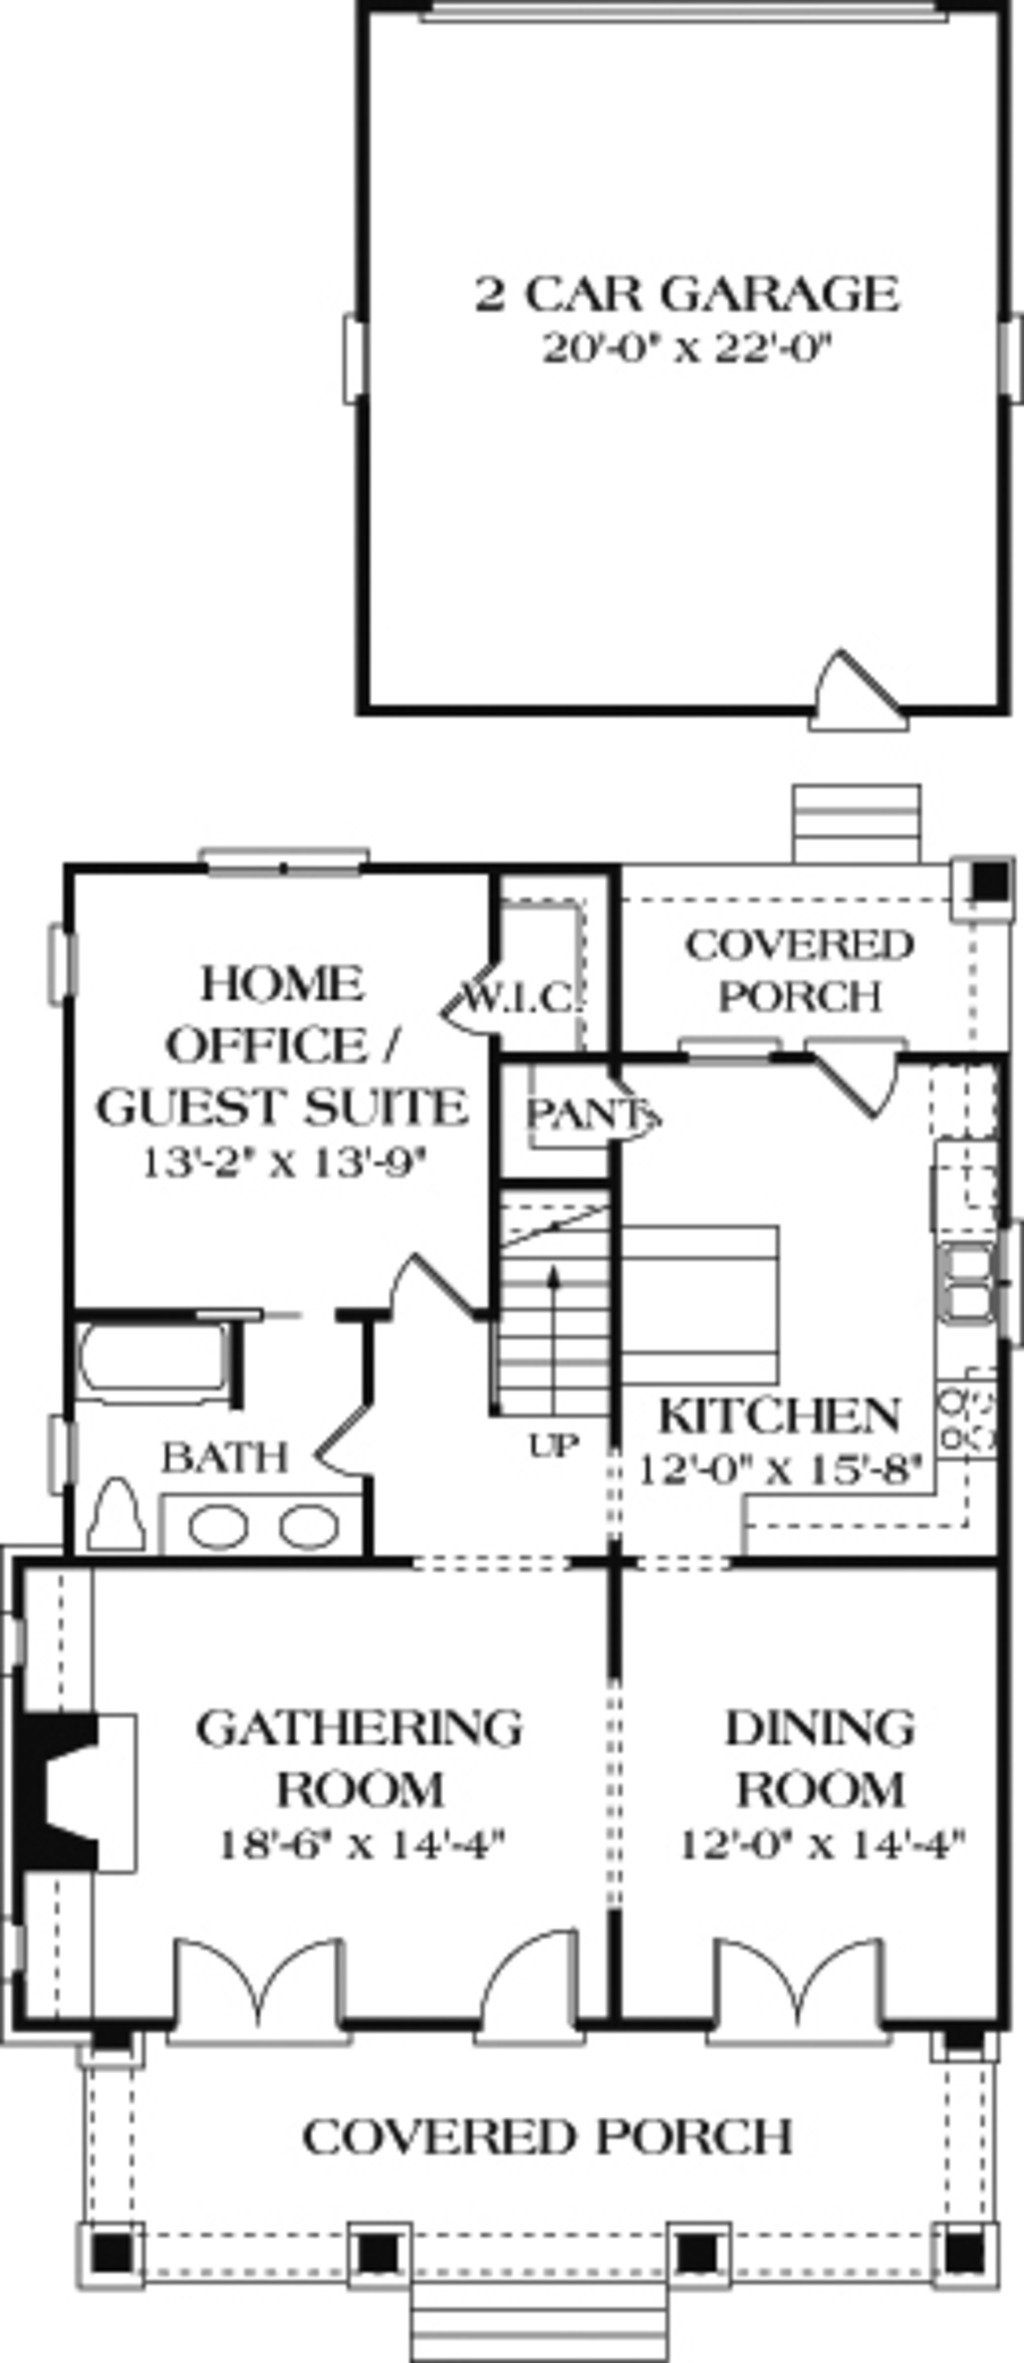door: (688, 1923, 906, 2053), (149, 1923, 373, 2042), (449, 1927, 584, 2060), (780, 622, 924, 738), (299, 1394, 421, 1501), (376, 1245, 498, 1349), (802, 1019, 906, 1127), (439, 945, 520, 1038), (587, 1064, 661, 1148)
large_sink: (95, 1468, 149, 1560)
small_sink: (172, 1490, 376, 1567)
tub: (72, 1316, 253, 1405)
twin_sink: (917, 1224, 986, 1338)
window: (317, 282, 380, 439), (187, 830, 365, 882), (32, 927, 95, 1026), (983, 316, 1016, 411)
